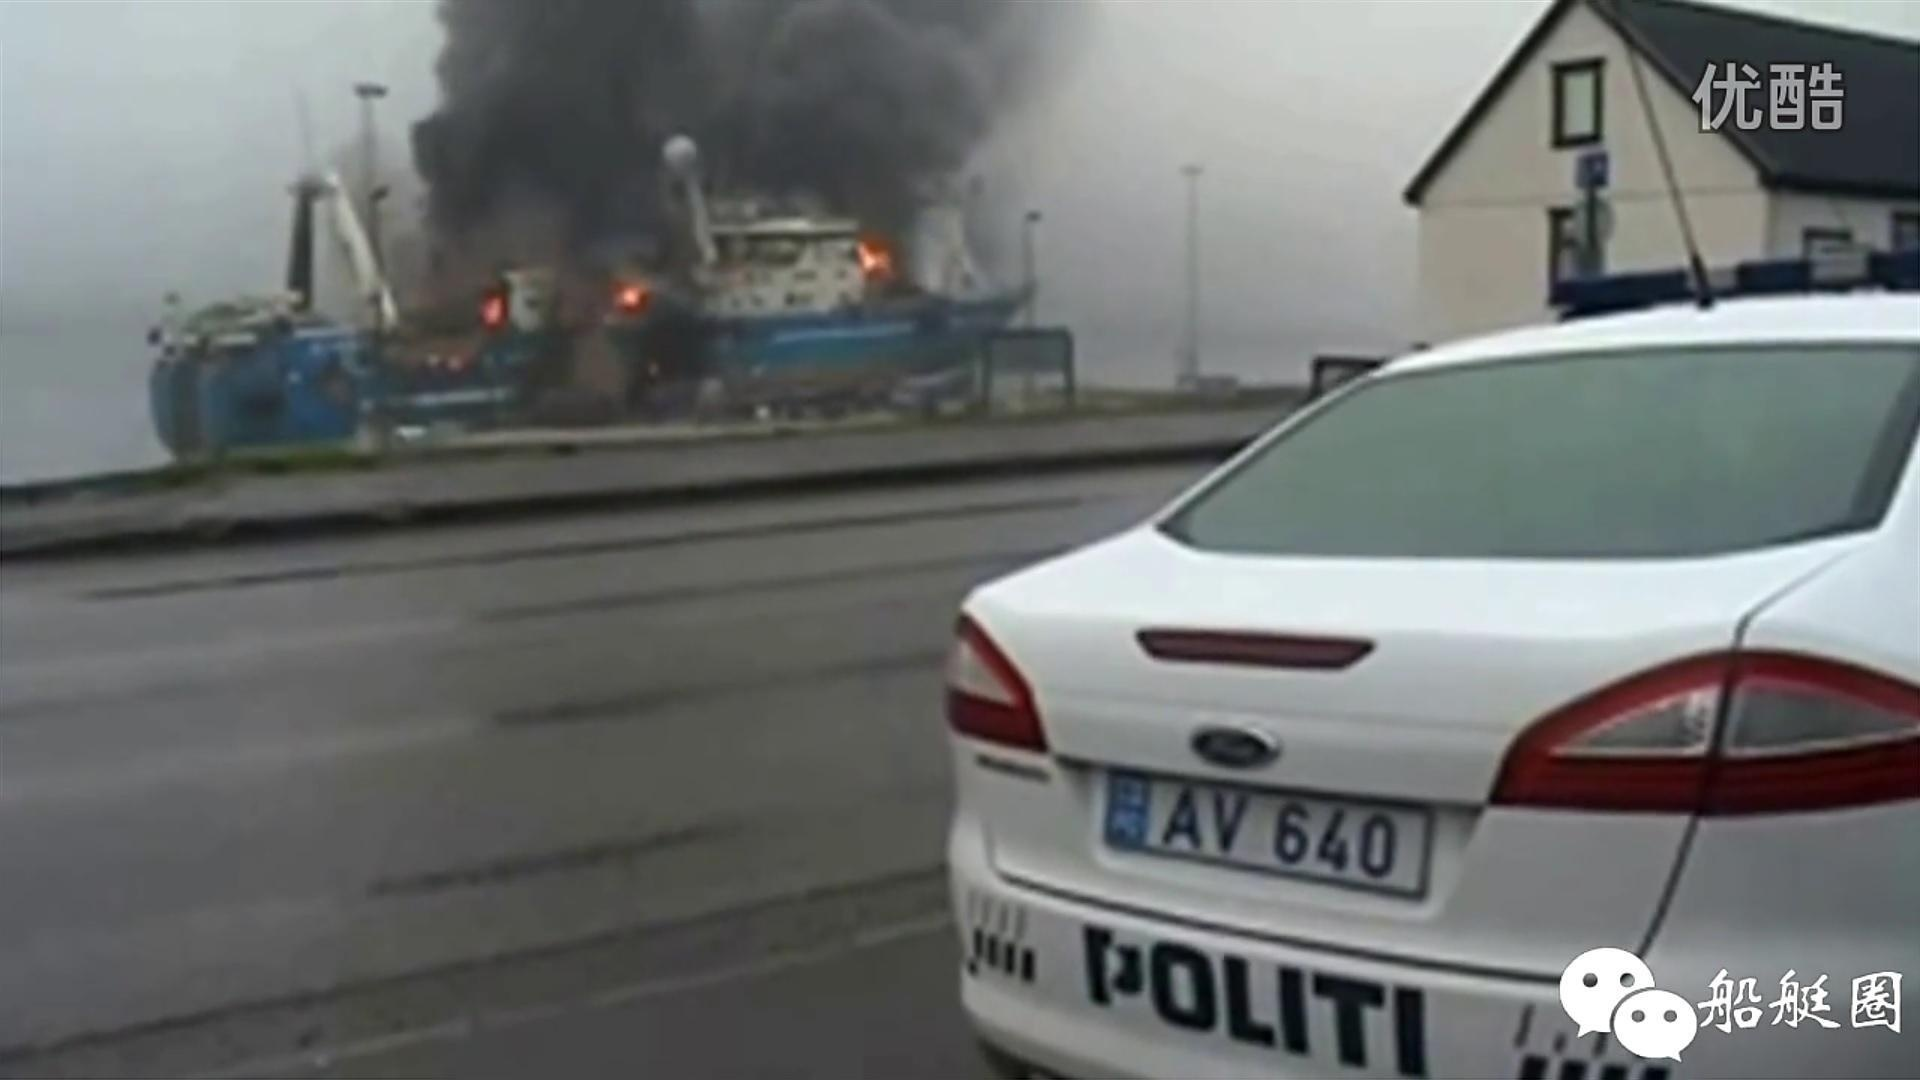fire: (853, 232, 890, 272), (615, 282, 642, 306)
